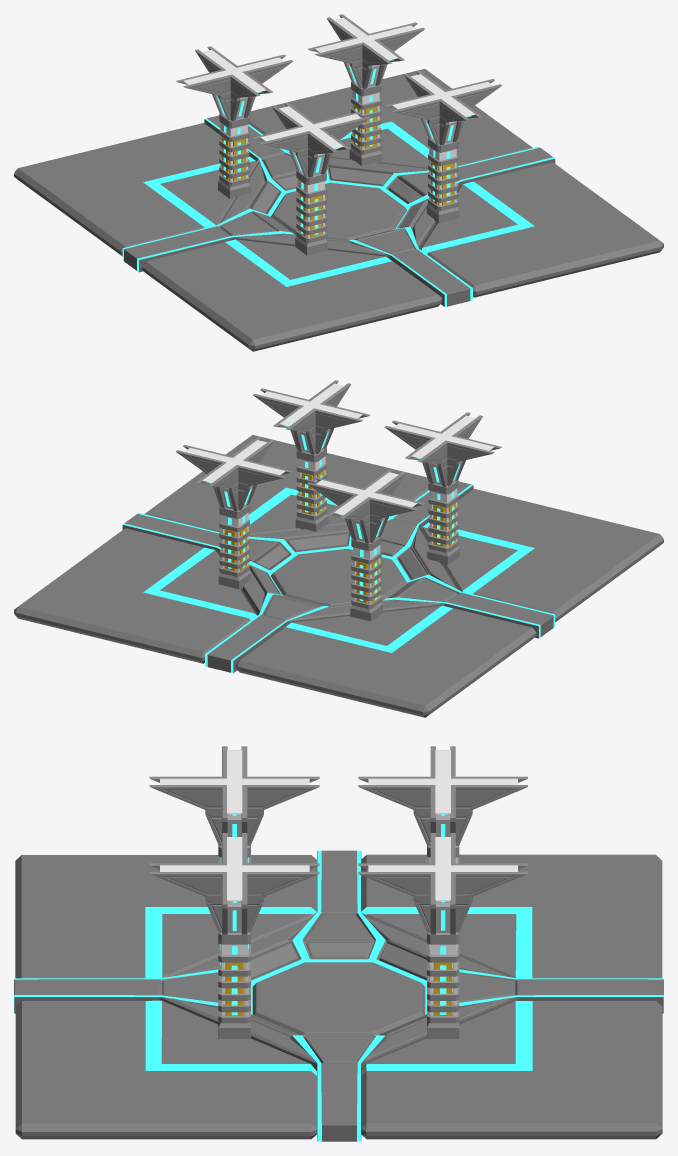
File: CentralFloorAndPillars.fbx
The picture shows the model from 3 angles, top to bottom: view 1: azimuth 30°, elevation 25°; view 2: azimuth 150°, elevation 25°; view 3: azimuth 270°, elevation 25°; orthographic projection. The views are drawn at different scales.
Visible parts, largest first — view 1: Central-Floor-square, central-floor, CentralPillar04, CentralPillar03, CentralPillar02, CentralPillar01; view 2: Central-Floor-square, central-floor, CentralPillar02, CentralPillar03, CentralPillar01, CentralPillar04; view 3: Central-Floor-square, central-floor, CentralPillar04, CentralPillar01, CentralPillar02, CentralPillar03.
Part boxes in pixels (x1,y1,x2,y2): Central-Floor-square: (14,69,663,351); central-floor: (122,115,555,306); CentralPillar04: (385,70,501,224); CentralPillar03: (253,102,370,255); CentralPillar02: (176,46,293,199); CentralPillar01: (308,14,424,165); Central-Floor-square: (14,435,663,717); central-floor: (122,481,555,672); CentralPillar02: (307,468,424,621); CentralPillar03: (384,412,501,565); CentralPillar01: (176,436,292,589); CentralPillar04: (253,380,369,531); Central-Floor-square: (15,854,662,1139); central-floor: (14,850,663,1141); CentralPillar04: (149,833,319,1038); CentralPillar01: (358,833,527,1038); CentralPillar02: (358,746,527,944); CentralPillar03: (149,746,319,944).
Bounding box in the file's own units: 1000 × 305 × 1000.
